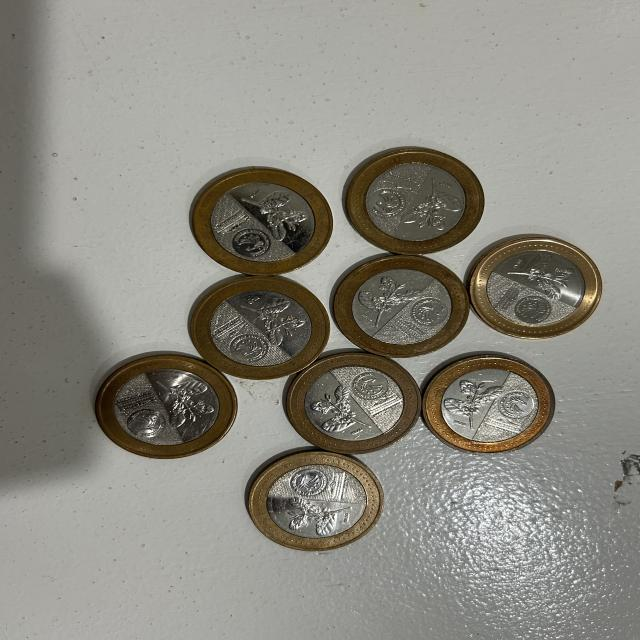20_New_Back: (239, 191, 312, 242), (508, 250, 576, 304), (358, 272, 417, 328), (241, 298, 304, 346), (152, 376, 209, 427), (406, 177, 460, 230), (309, 385, 367, 431), (288, 498, 351, 535), (448, 380, 496, 423)
